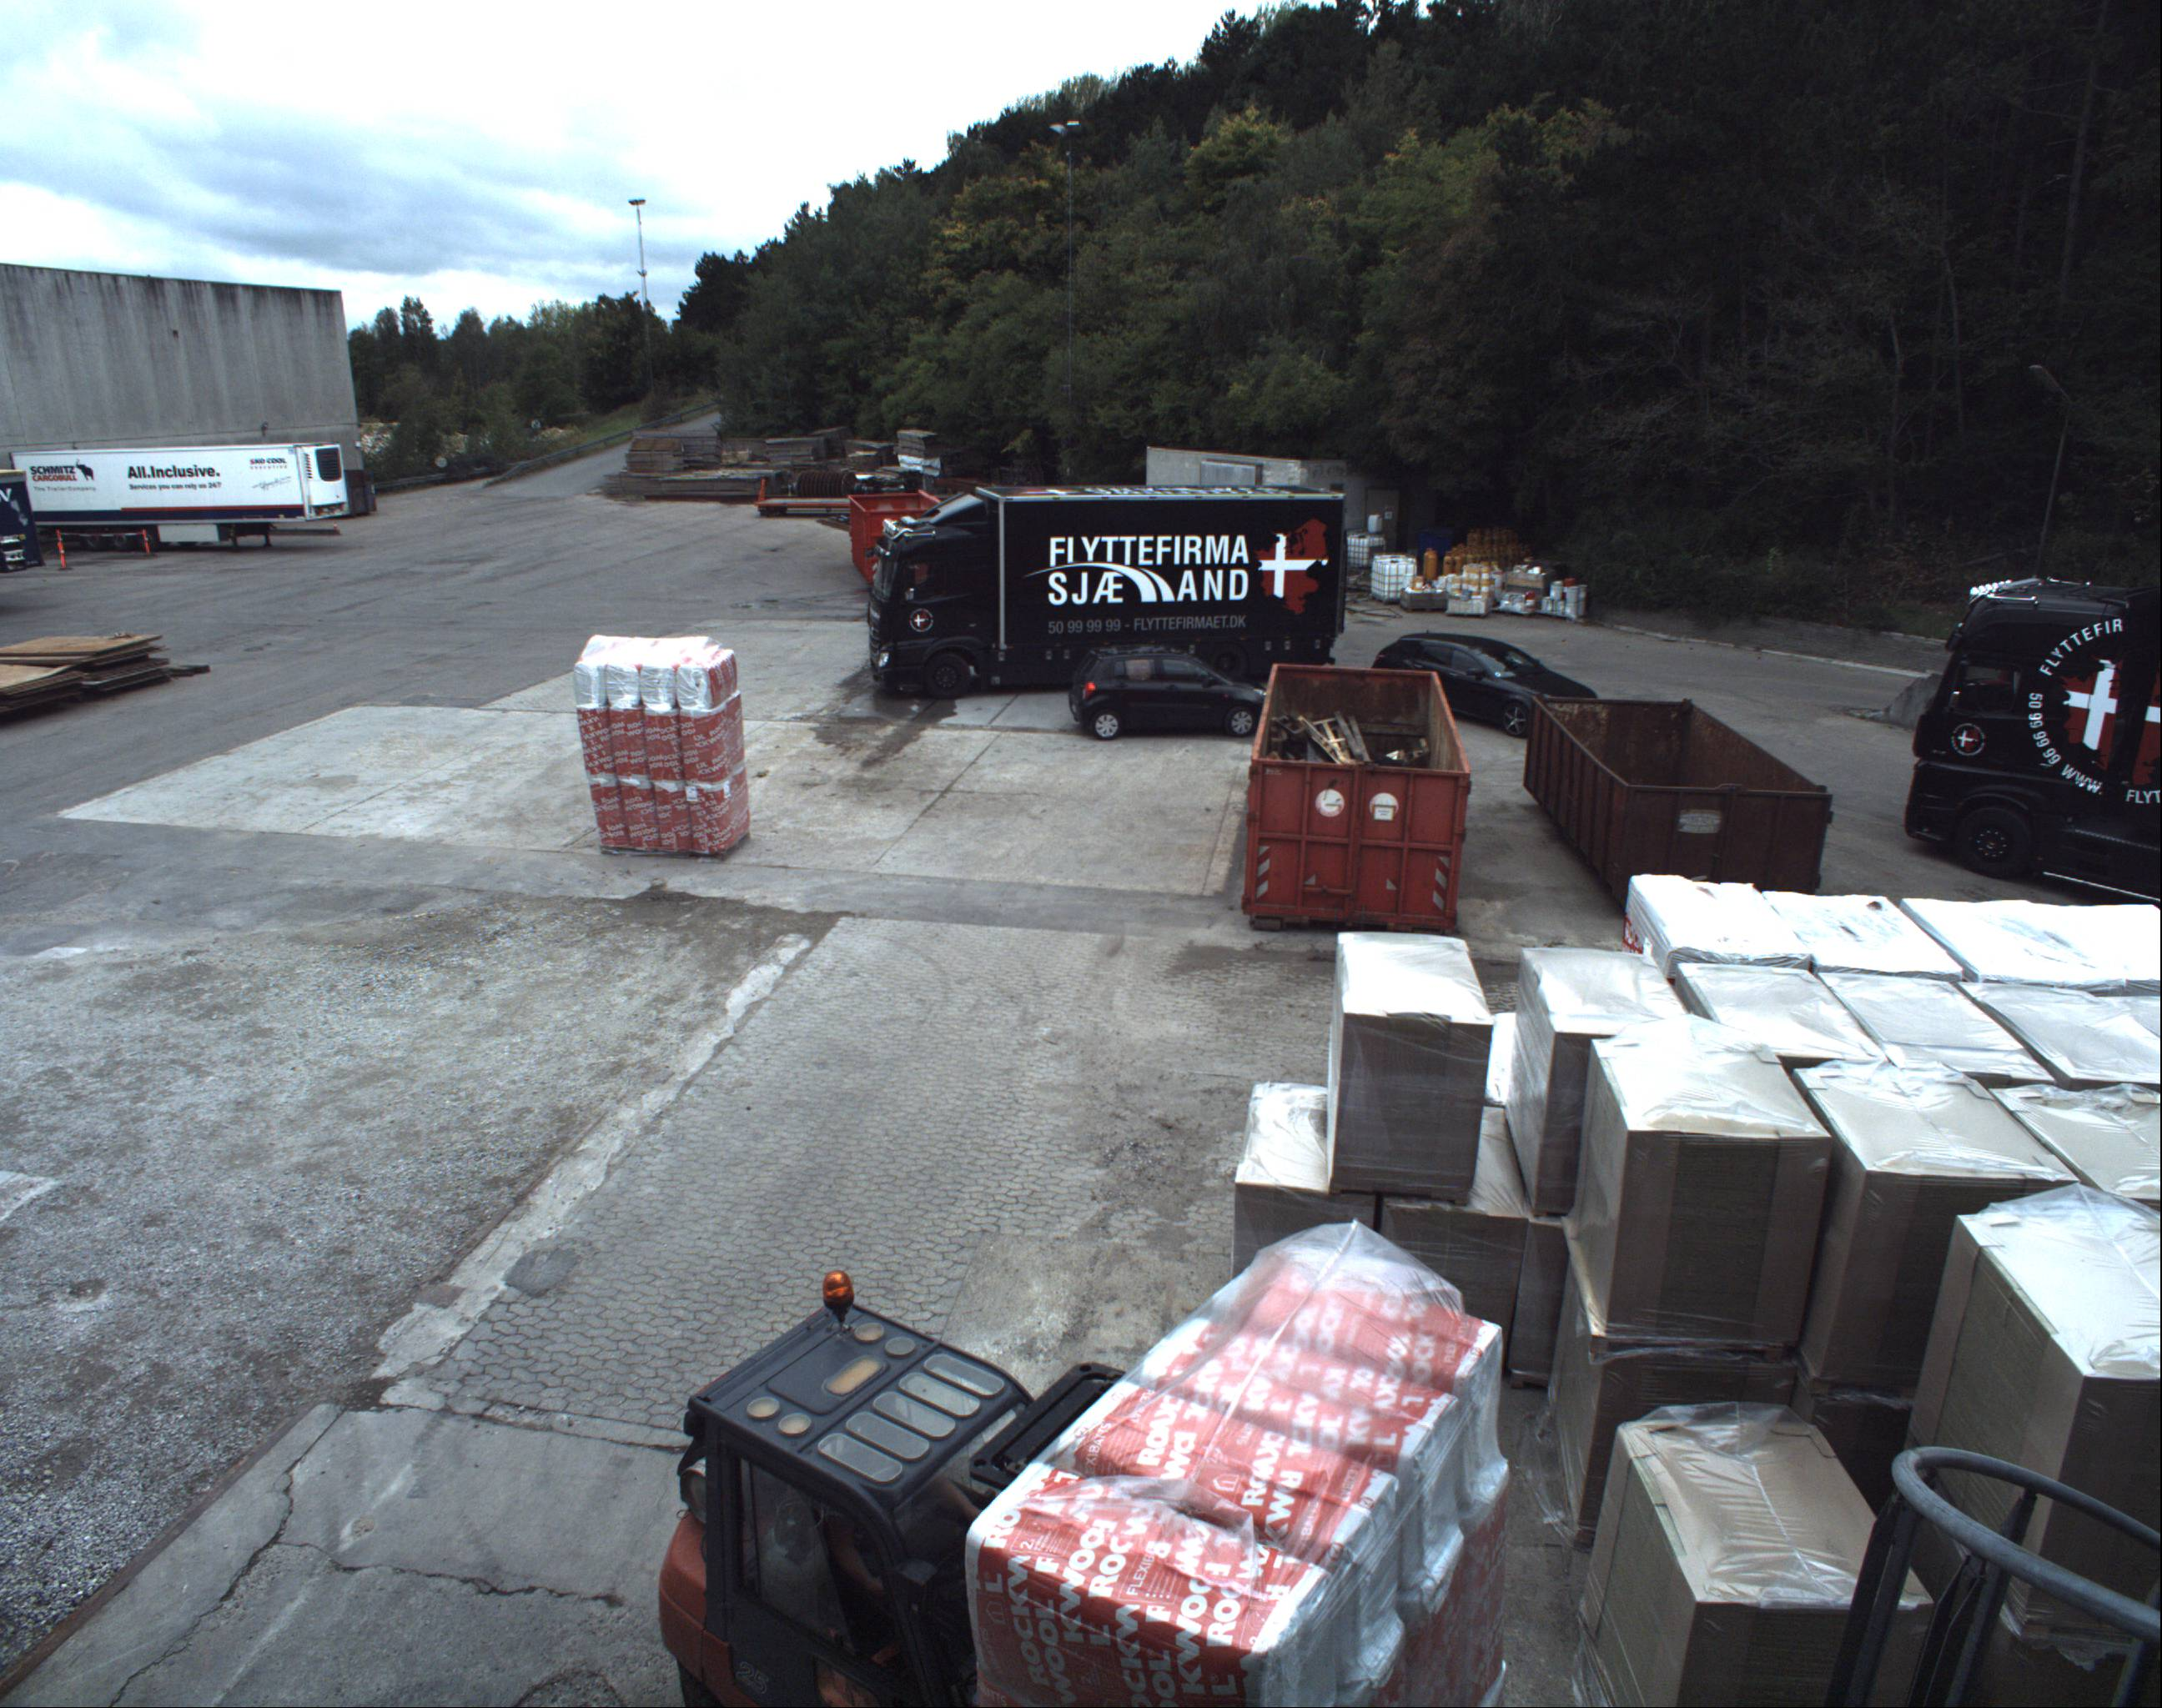rockwool_batts: (955, 1267, 1493, 1703), (567, 625, 753, 851)
